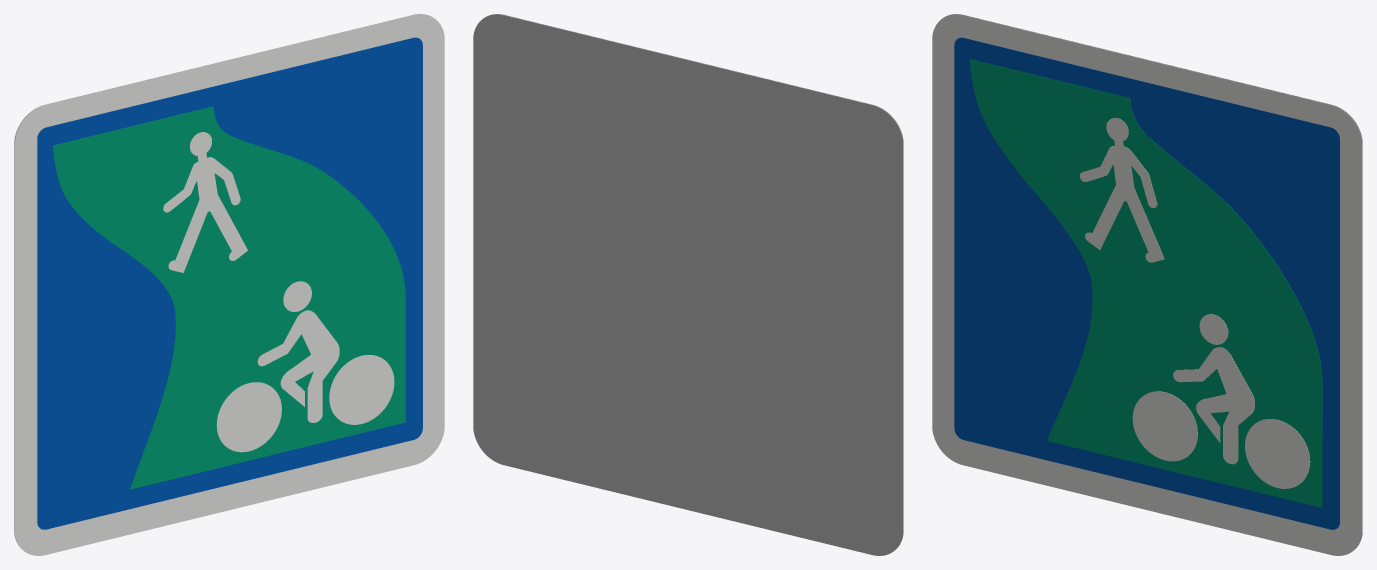
3 views of the same model, side by side, from view 1: azimuth 30°, elevation 25°; view 2: azimuth 150°, elevation 25°; view 3: azimuth 330°, elevation 25° (orthographic).
Visible parts, largest first — view 1: C115_p01, C115_p02, C115_p00, C115_p03, C115_p07, C115_p06, C115_p05, C115_dos, C115_p04; view 2: C115_dos, C115_p00; view 3: C115_p01, C115_p02, C115_p00, C115_p03, C115_p07, C115_p05, C115_p06, C115_dos, C115_p04.
Part boxes in pixels (bbox=[...]): C115_p01: bbox=[37, 37, 422, 529]; C115_p02: bbox=[53, 106, 405, 489]; C115_p00: bbox=[14, 14, 444, 555]; C115_p03: bbox=[163, 132, 247, 272]; C115_p07: bbox=[257, 310, 339, 422]; C115_p06: bbox=[329, 355, 394, 424]; C115_p05: bbox=[216, 382, 281, 452]; C115_dos: bbox=[14, 14, 431, 547]; C115_p04: bbox=[283, 281, 311, 311]; C115_dos: bbox=[473, 14, 903, 555]; C115_p00: bbox=[486, 14, 903, 547]; C115_p01: bbox=[954, 37, 1339, 529]; C115_p02: bbox=[970, 59, 1322, 507]; C115_p00: bbox=[932, 14, 1362, 555]; C115_p03: bbox=[1079, 118, 1164, 262]; C115_p07: bbox=[1173, 347, 1254, 464]; C115_p05: bbox=[1132, 391, 1197, 461]; C115_p06: bbox=[1245, 419, 1310, 488]; C115_dos: bbox=[945, 14, 1362, 547]; C115_p04: bbox=[1199, 314, 1228, 344].
Bounding box in the file's own units: 0.7 × 0.6999 × 0.0047.
